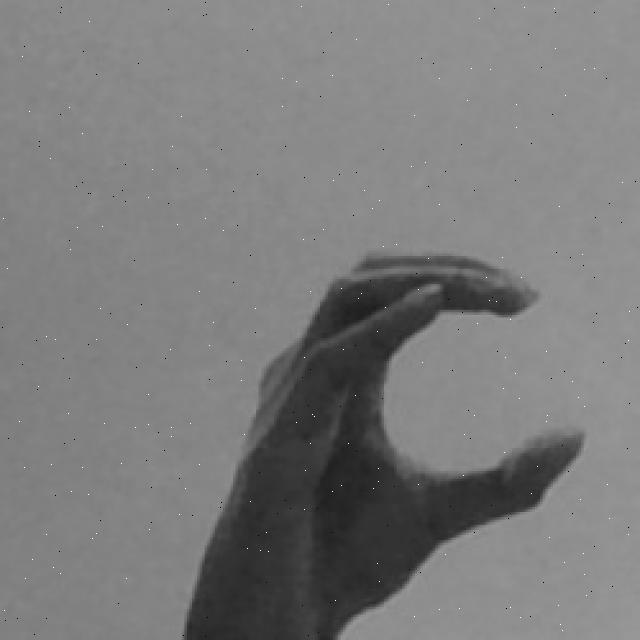C: (190, 251, 588, 640)
